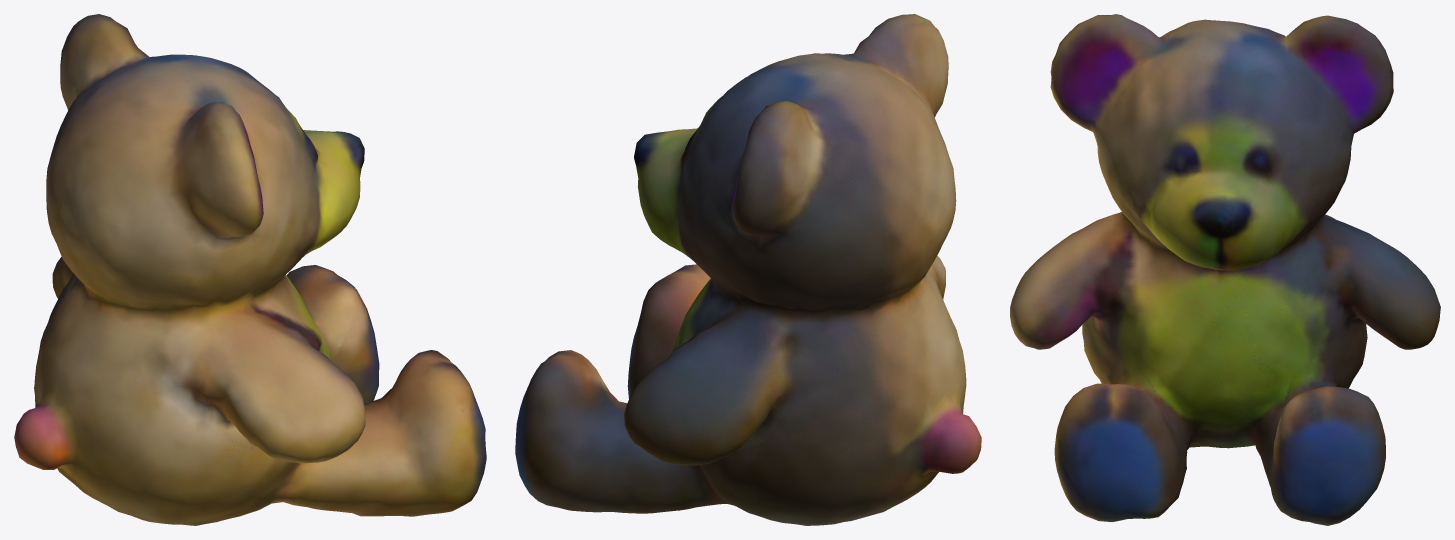
Rendered from Create_bear_with_Oval_face_with_dark_eyes_a_broad_smile_an_0614160645_preview.obj.
3 views of the same model, side by side, from view 1: azimuth 30°, elevation 25°; view 2: azimuth 150°, elevation 25°; view 3: azimuth 270°, elevation 25° (orthographic). The views are drawn at different scales.
Visible parts, largest first — view 1: Mesh1; view 2: Mesh1; view 3: Mesh1.
Part boxes in pixels (x1,y1,x2,y2): Mesh1: [14, 14, 486, 525]; Mesh1: [515, 14, 981, 525]; Mesh1: [1010, 14, 1440, 525].
Size of the model in its own units: 1.1 by 1.2 by 1.14.
Materials: 1 (1 with a texture image).
